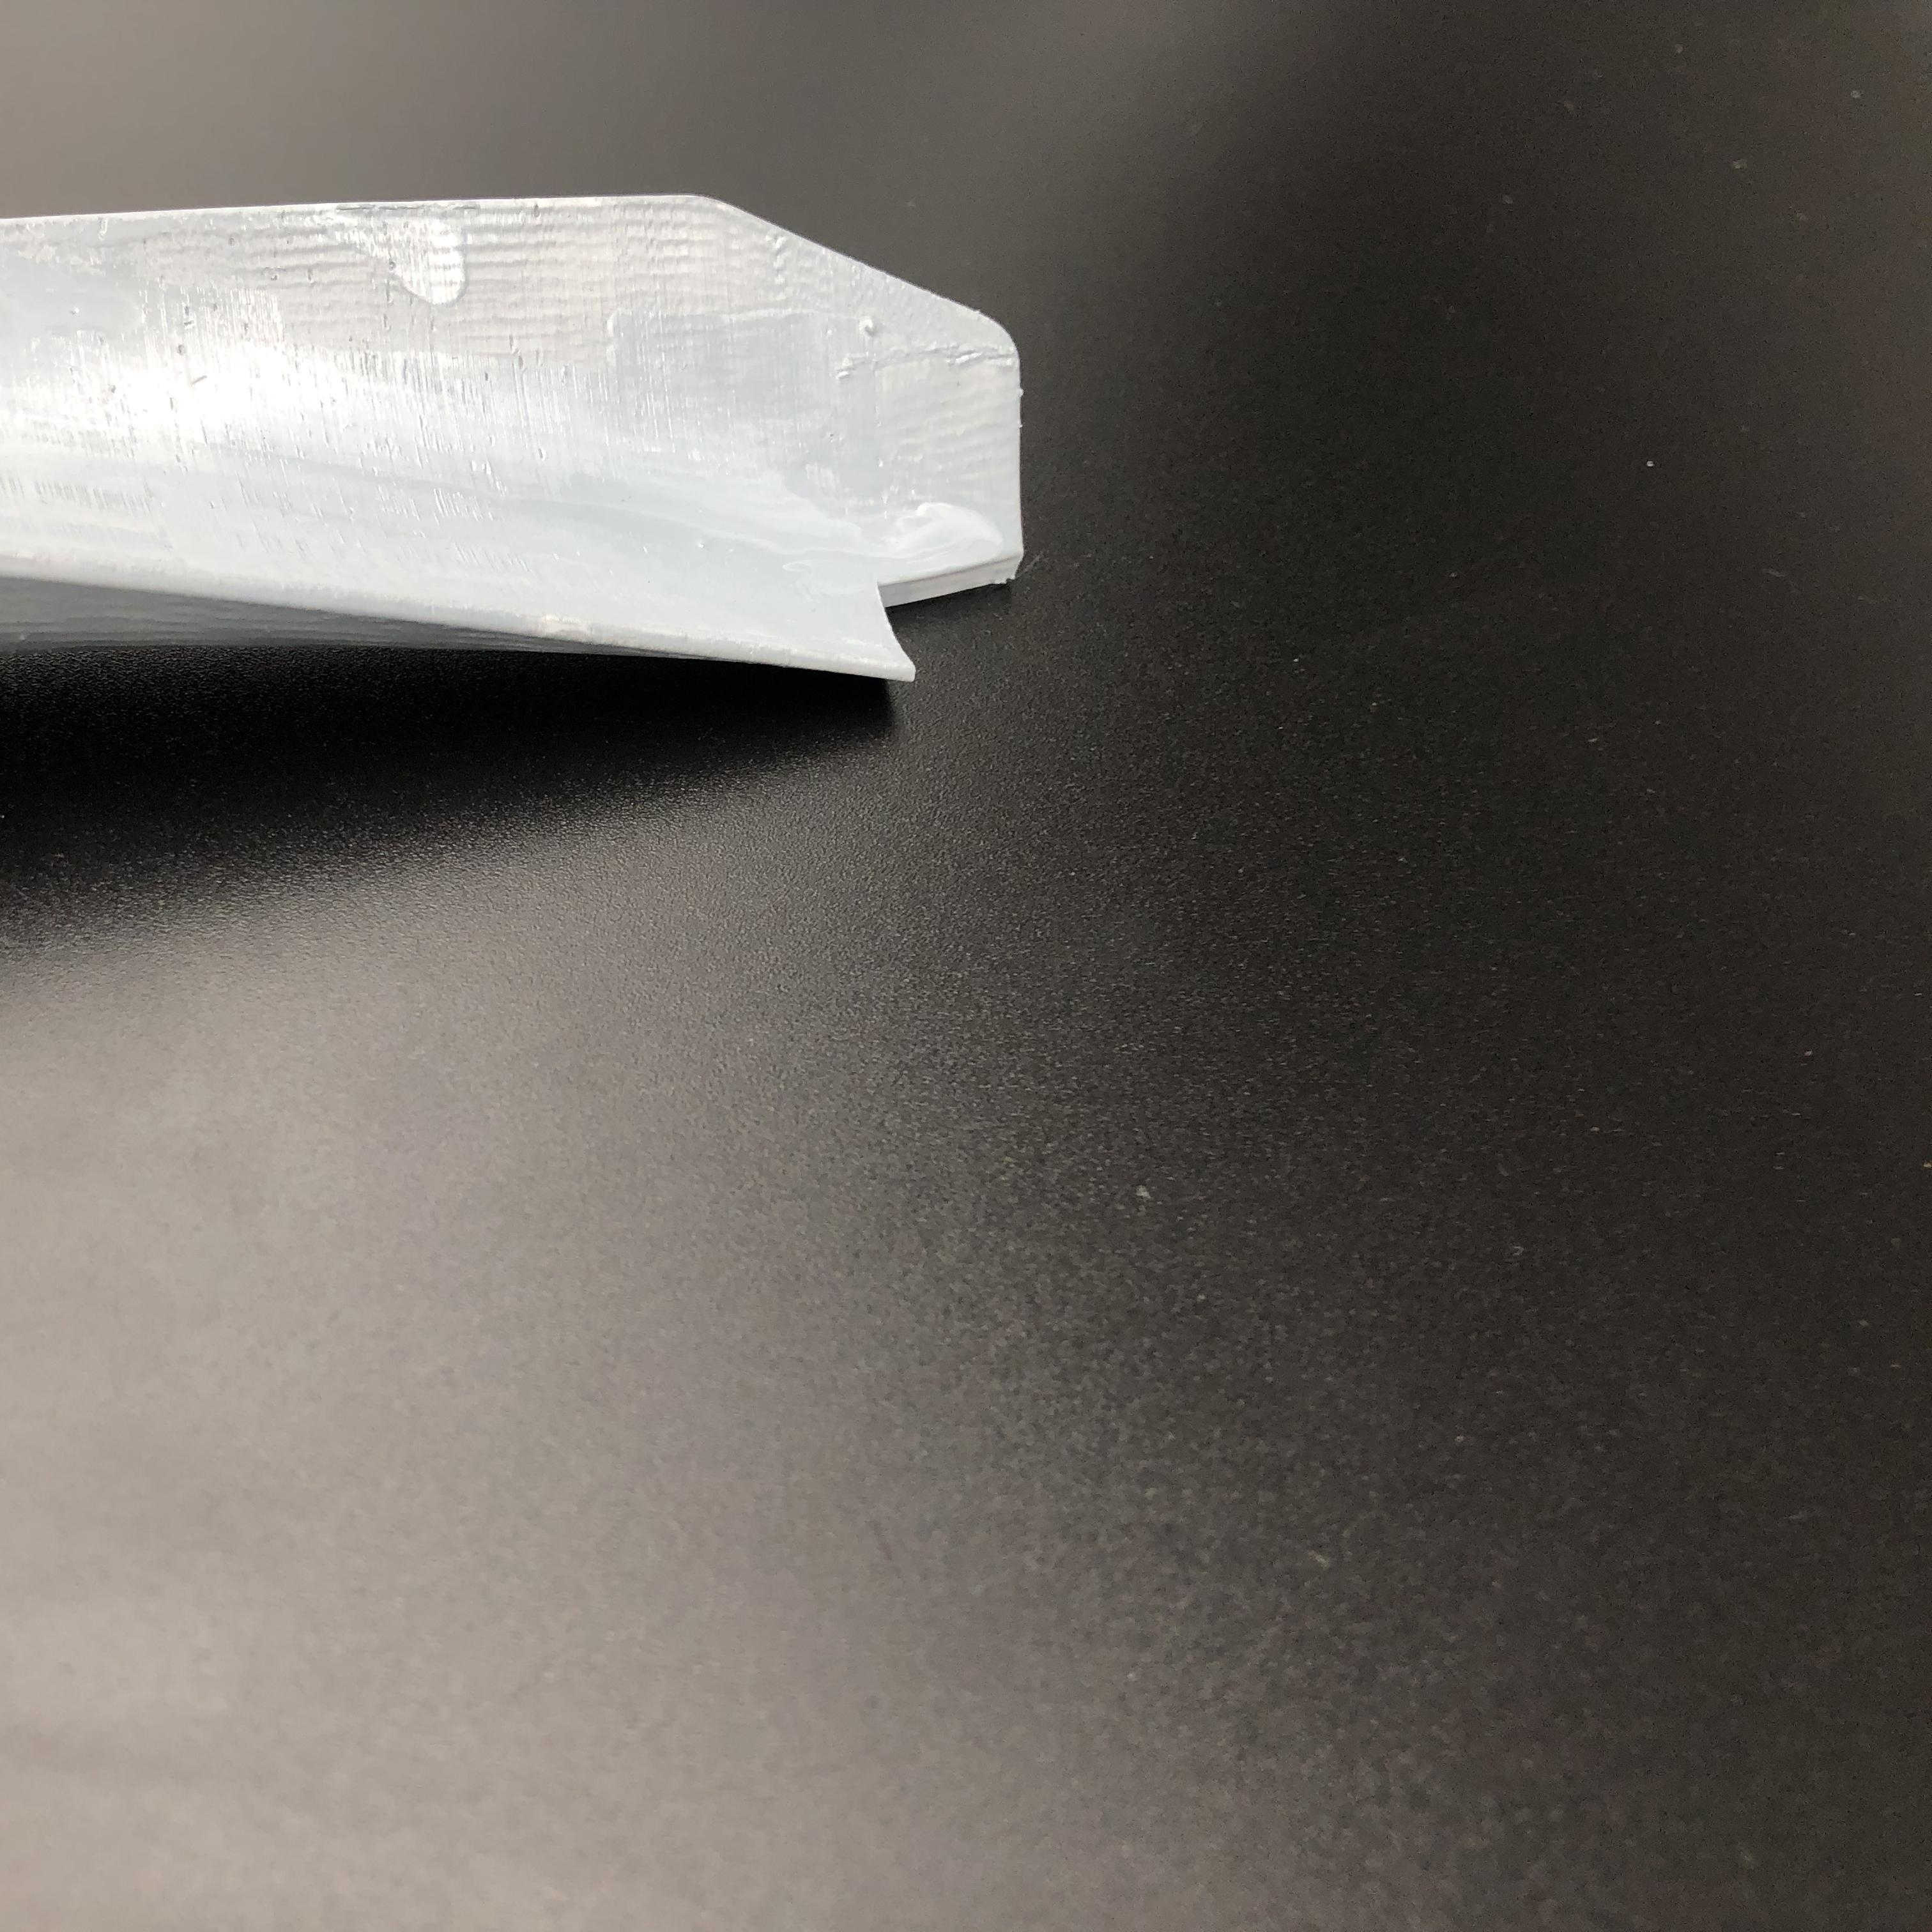fracture: (856, 543, 1024, 688)
